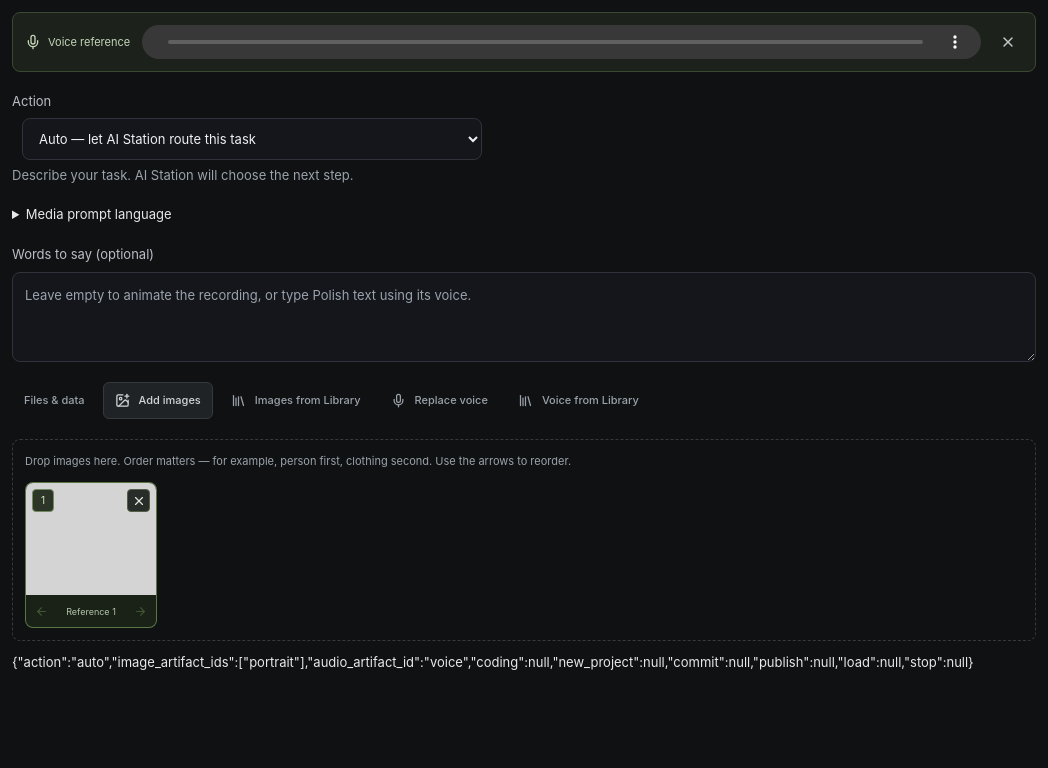
Test case: clears media scope and hides irrelevant upload controls for workstation inspection
This screenshot has width=1048, height=768.
Select "Inspect workstation" in the dropdown labelled "Action" at (252, 138), box [22,118,482,160]
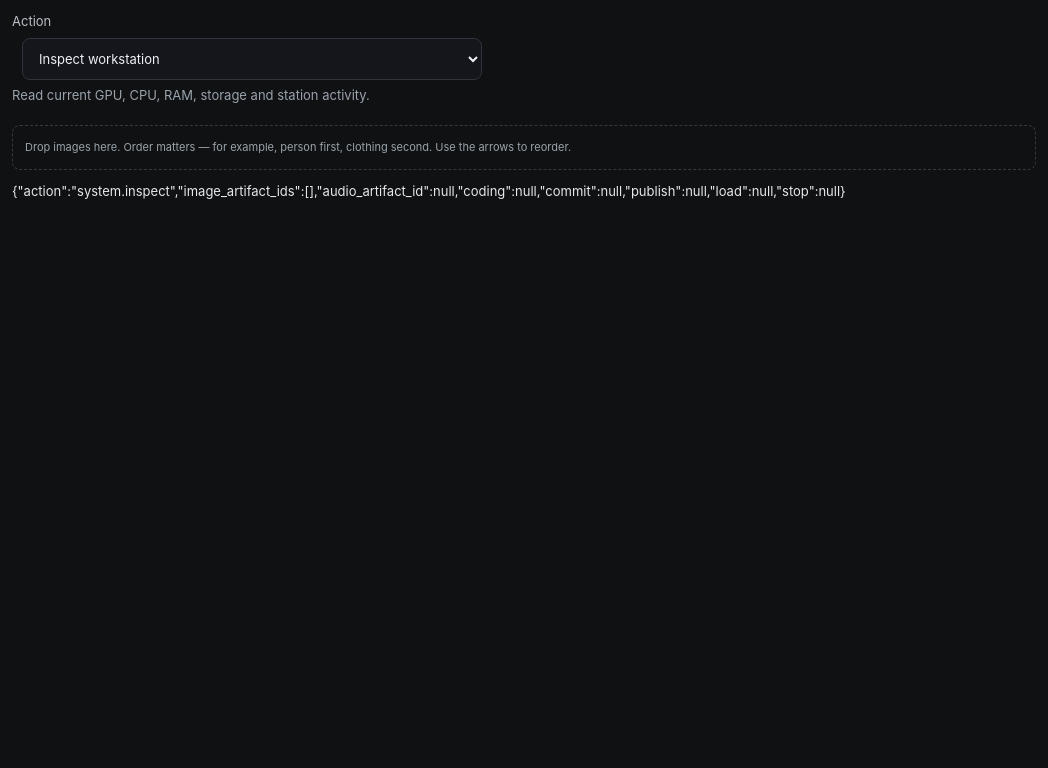
Check: the button "Add images" is gone
Check: the button "Replace voice" is gone
Check: the text with alt text "Reference 1" is gone
